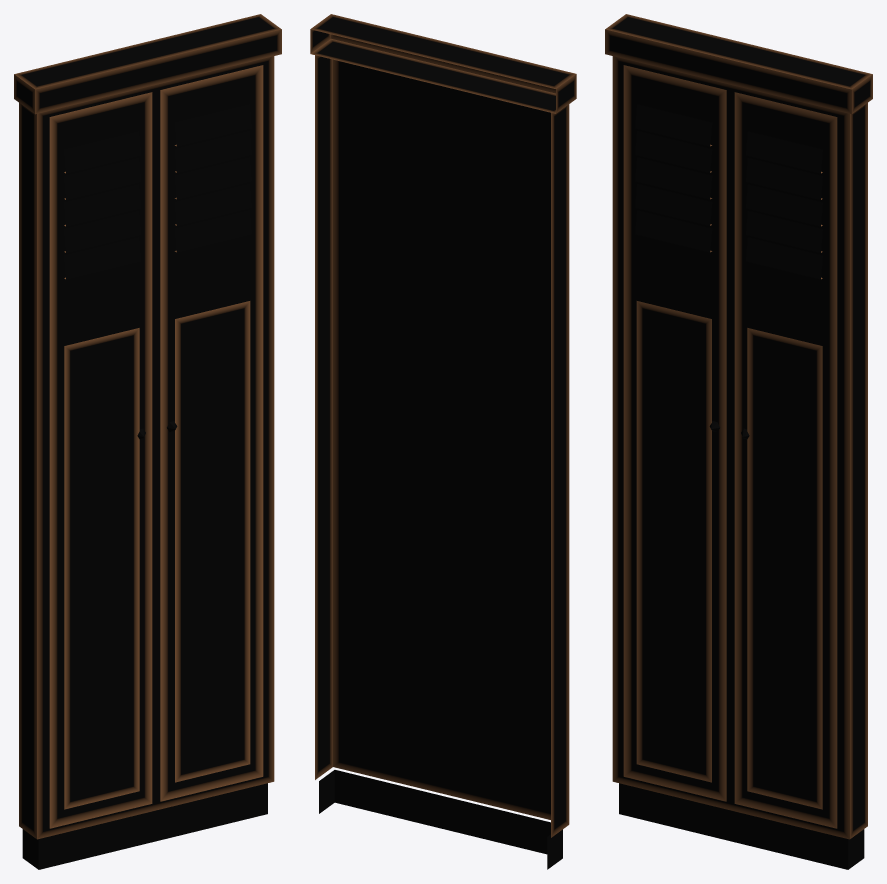
File: locker.glb
The picture shows the model from 3 angles, left to right: view 1: azimuth 30°, elevation 25°; view 2: azimuth 150°, elevation 25°; view 3: azimuth 330°, elevation 25°; orthographic projection.
Visible parts, largest first — view 1: teak, frame, dark; view 2: frame, dark; view 3: teak, frame, dark.
Part boxes in pixels (box(x1,y1,x2,y2)): teak: box(49, 65, 263, 828); frame: box(14, 14, 281, 839); dark: box(22, 101, 267, 869); frame: box(310, 14, 576, 837); dark: box(319, 770, 562, 869); teak: box(623, 65, 837, 828); frame: box(605, 14, 872, 839); dark: box(619, 101, 864, 869).
Bounding box in the file's own units: 0.624 × 1.9 × 0.099.
